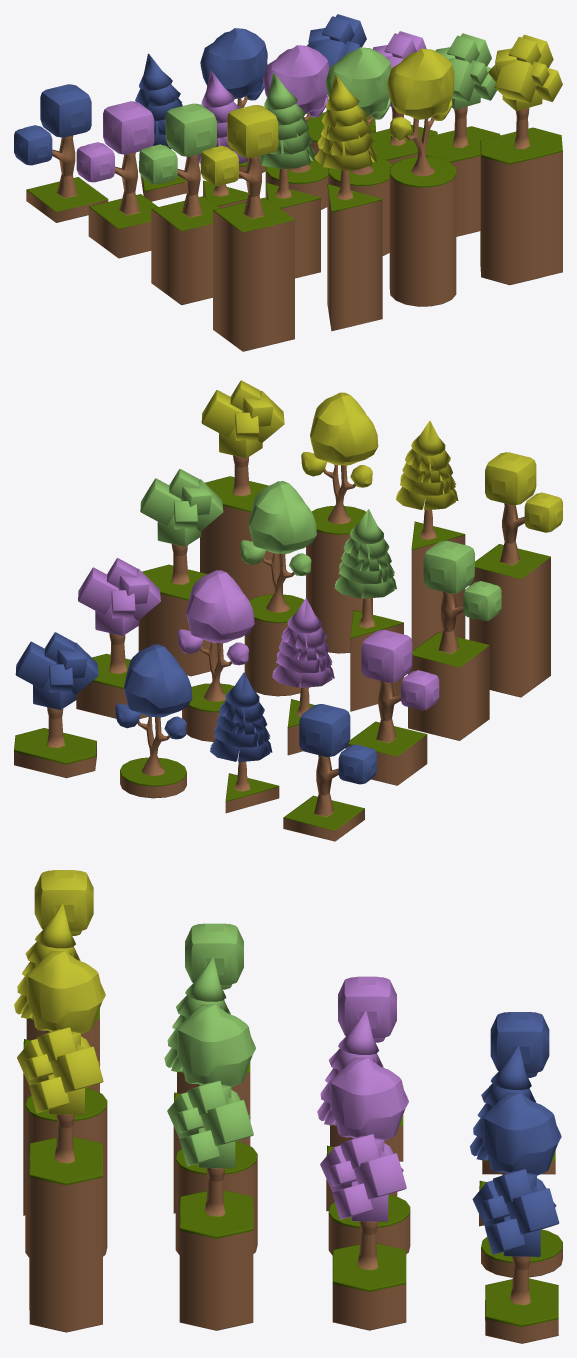
Rendered from Trees.fbx.
The picture shows the model from 3 angles, top to bottom: view 1: azimuth 30°, elevation 25°; view 2: azimuth 150°, elevation 25°; view 3: azimuth 270°, elevation 25°; orthographic projection. The views are drawn at different scales.
Parts seen in each view (by area): view 1: Tree 24.004, Tree 16.004, Tree 29.004, Tree 42.004, Tree 16.002, Tree 16.001, Tree 16.003, Tree 24.002, Tree 42.002, Tree 29.002, Tree 29.001, Tree 29.003 (+4 smaller); view 2: Tree 16.004, Tree 16.002, Tree 29.004, Tree 24.004, Tree 29.002, Tree 24.002, Tree 24.003, Tree 29.003, Tree 16.001, Tree 42.004, Tree 29.001, Tree 16.003 (+4 smaller); view 3: Tree 24.004, Tree 24.002, Tree 24.001, Tree 24.003, Tree 29.004, Tree 29.002, Tree 29.001, Tree 29.003, Tree 16.002, Tree 16.004, Tree 16.001, Tree 16.003 (+4 smaller).
Boxes of the visible parts, x1,y1,x2,y2 form: Tree 24.004: (480, 34, 562, 285); Tree 16.004: (200, 105, 294, 351); Tree 29.004: (387, 48, 456, 306); Tree 42.004: (314, 74, 382, 331); Tree 16.002: (139, 103, 219, 305); Tree 16.001: (76, 101, 157, 258); Tree 16.003: (14, 84, 108, 222); Tree 24.002: (421, 33, 500, 236); Tree 42.002: (259, 73, 320, 278); Tree 29.002: (325, 47, 392, 255); Tree 29.001: (263, 45, 329, 209); Tree 29.003: (200, 28, 267, 178); Tree 16.004: (469, 452, 562, 697); Tree 16.002: (408, 540, 501, 740); Tree 29.004: (301, 392, 378, 653); Tree 24.004: (200, 380, 284, 600); Tree 29.002: (240, 481, 316, 696); Tree 24.002: (138, 469, 223, 676); Tree 24.003: (14, 632, 98, 778); Tree 29.003: (115, 644, 192, 798); Tree 16.001: (345, 630, 439, 785); Tree 42.004: (396, 420, 465, 650); Tree 29.001: (177, 570, 254, 741); Tree 16.003: (283, 704, 376, 841); Tree 24.004: (17, 1027, 103, 1332); Tree 24.002: (167, 1080, 253, 1330); Tree 24.001: (320, 1134, 406, 1330); Tree 24.003: (472, 1169, 559, 1343); Tree 29.004: (25, 951, 107, 1257); Tree 29.002: (175, 1004, 257, 1254); Tree 29.001: (328, 1058, 410, 1255); Tree 29.003: (481, 1093, 562, 1277); Tree 16.002: (177, 923, 250, 1145); Tree 16.004: (26, 870, 99, 1092); Tree 16.001: (330, 976, 403, 1161); Tree 16.003: (482, 1012, 555, 1174).
Bounding box in the file's own units: 1348 × 910 × 1463.
